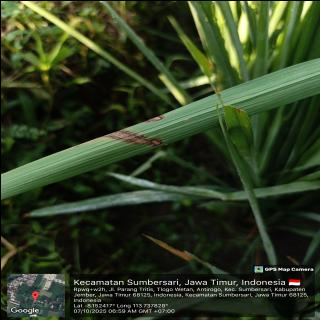Blast: (105, 129, 147, 143), (140, 114, 164, 124), (148, 137, 164, 145)
